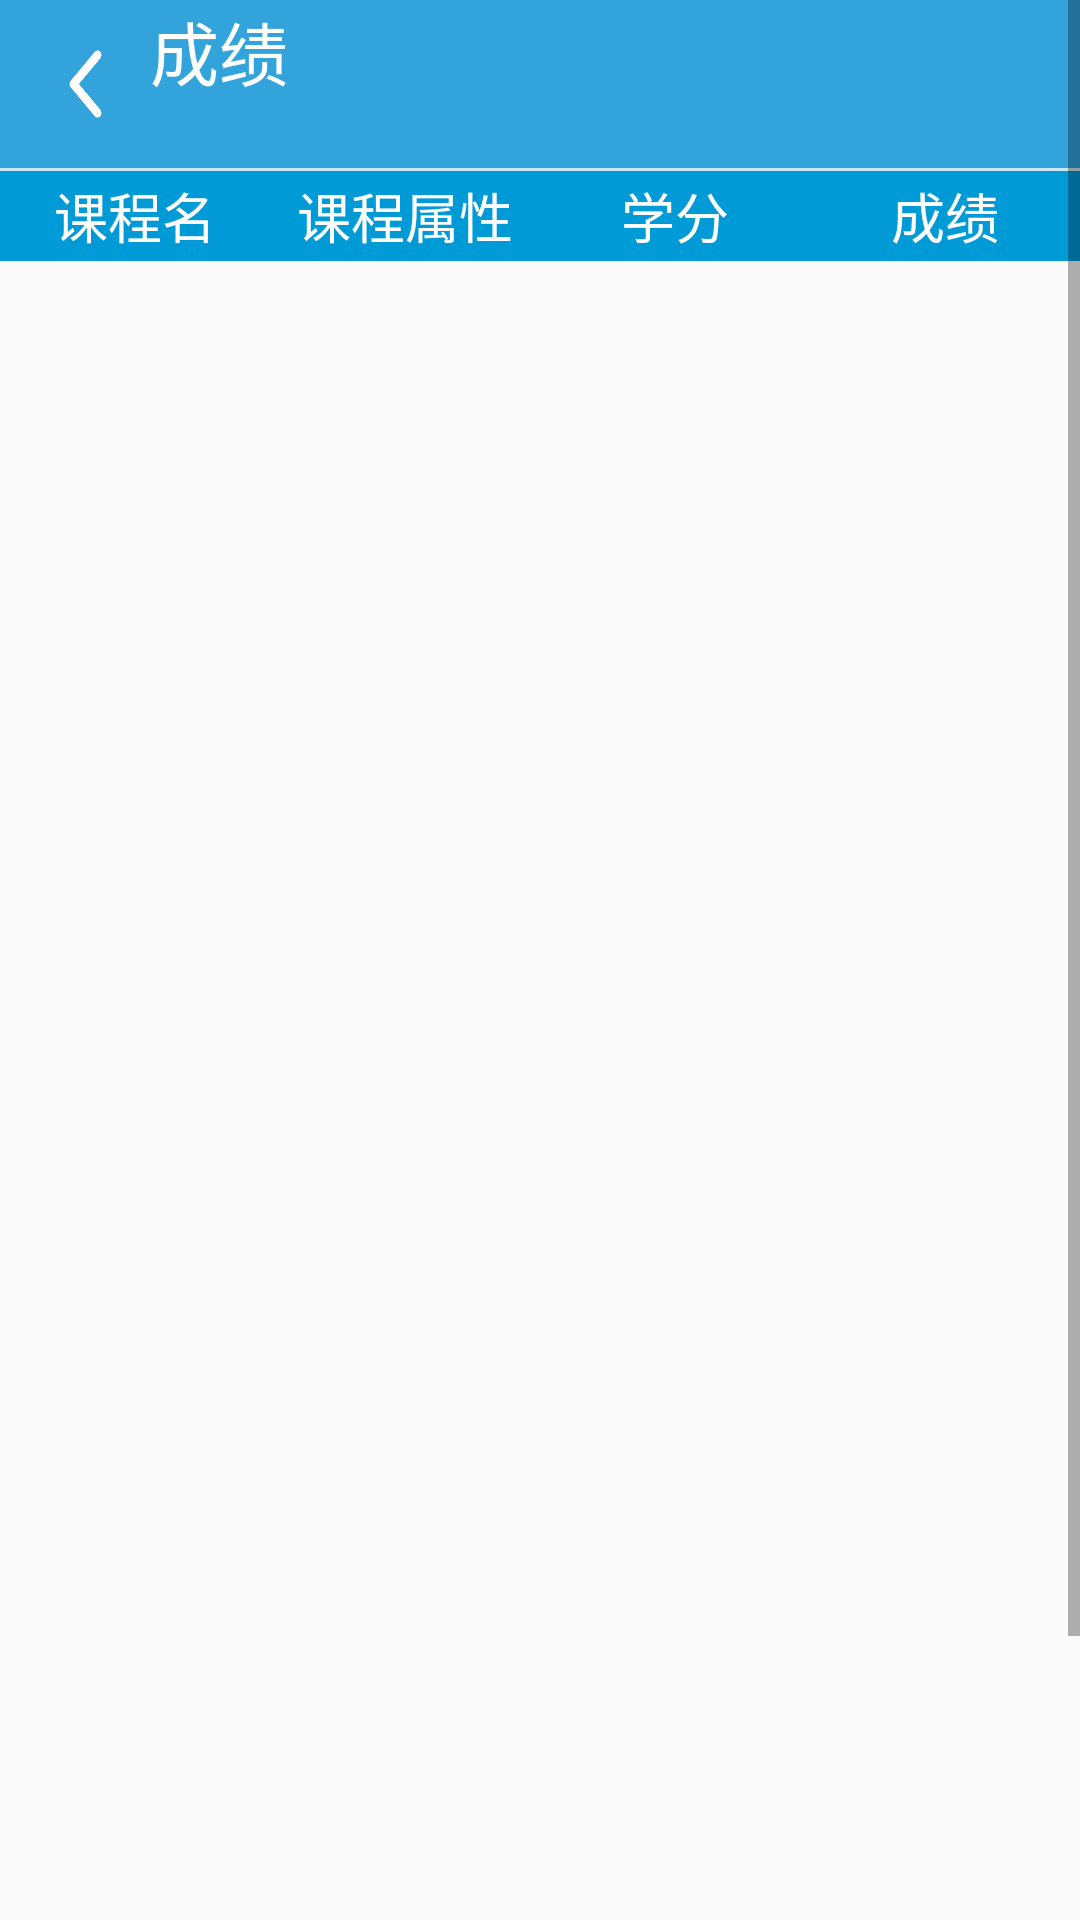

Icon click points for this 1080px×1920px phone screenshot, format point (x, y):
back: point (85, 84)
